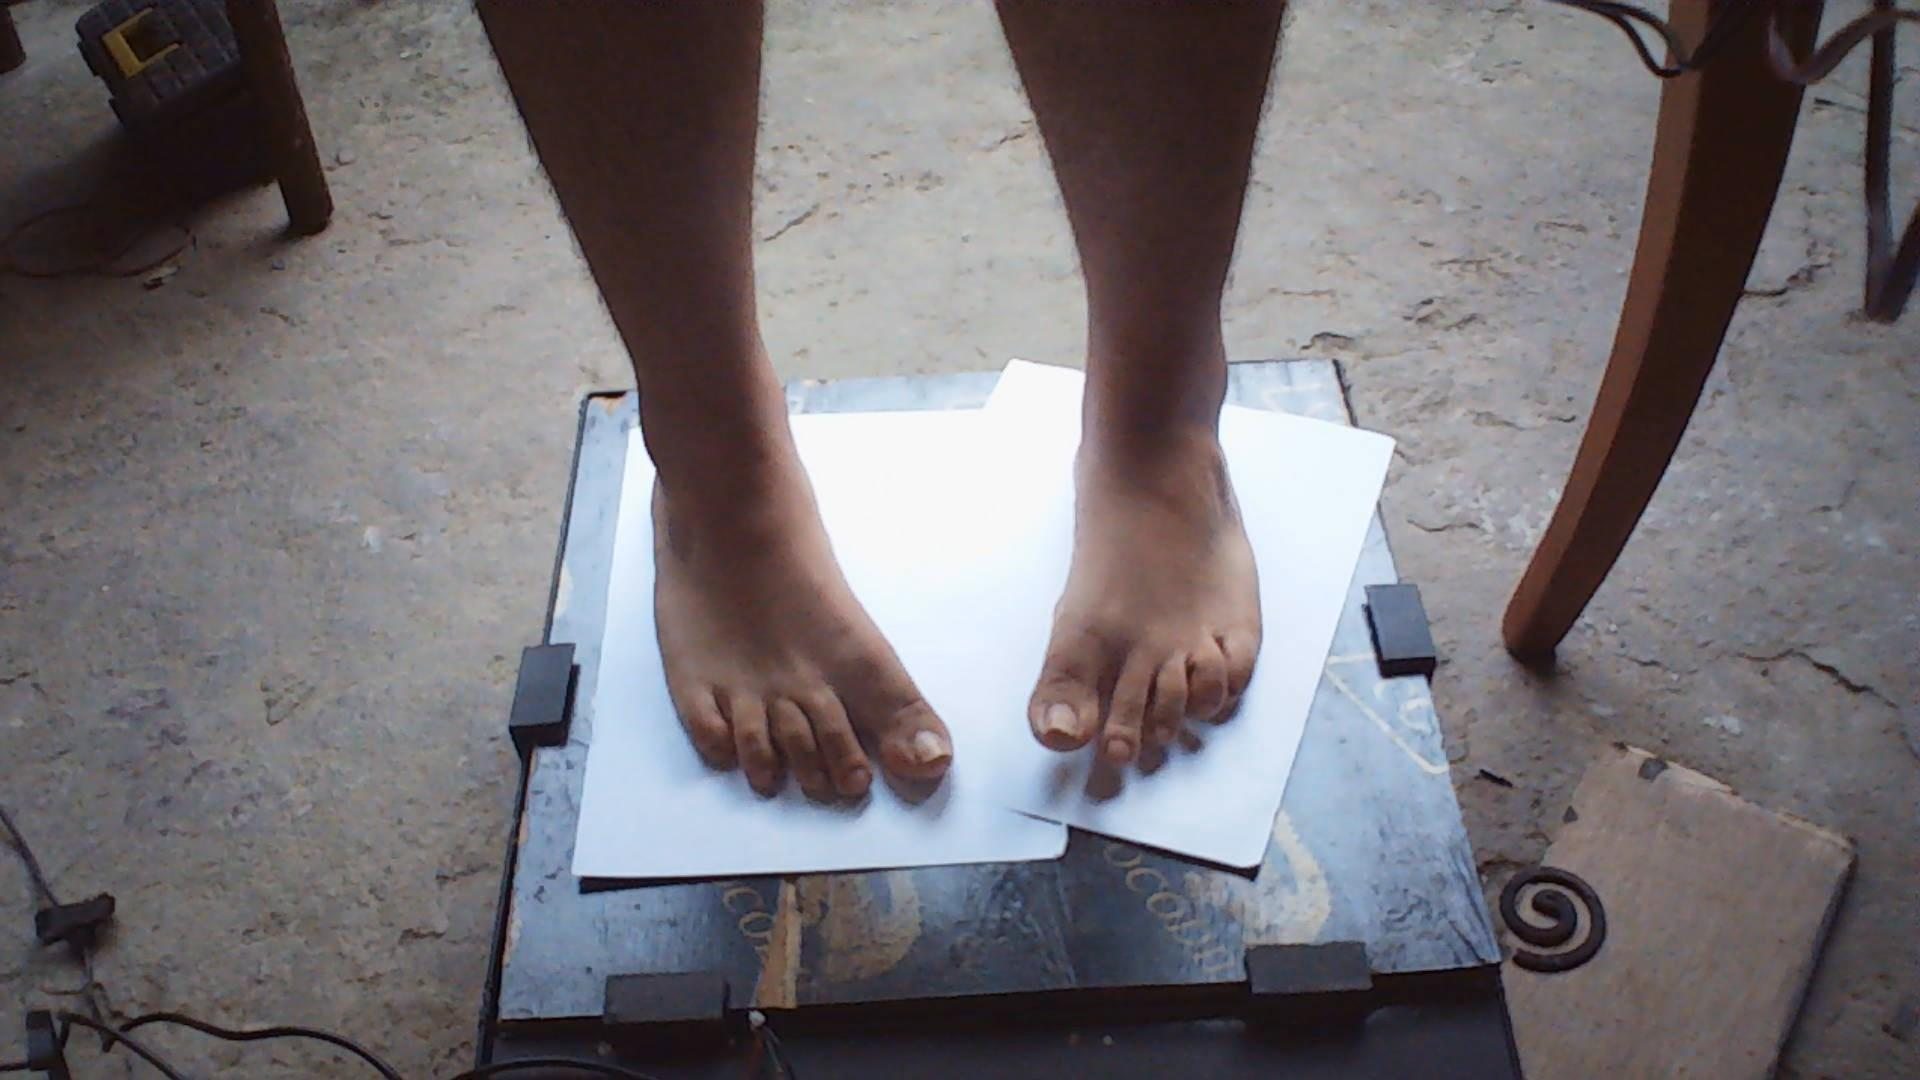Bare_feet: (620, 393, 989, 841), (1007, 378, 1307, 831)
